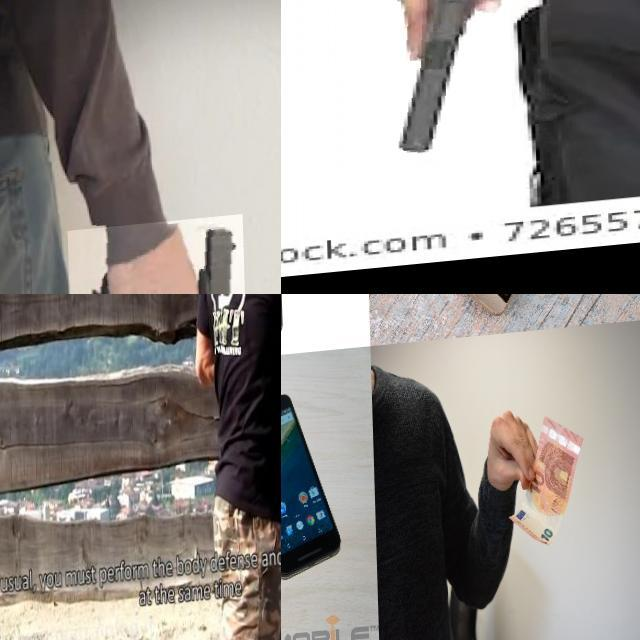gun-knife-thesis - v11 Yolov5 augmented: (364, 0, 510, 170), (65, 220, 248, 294)
